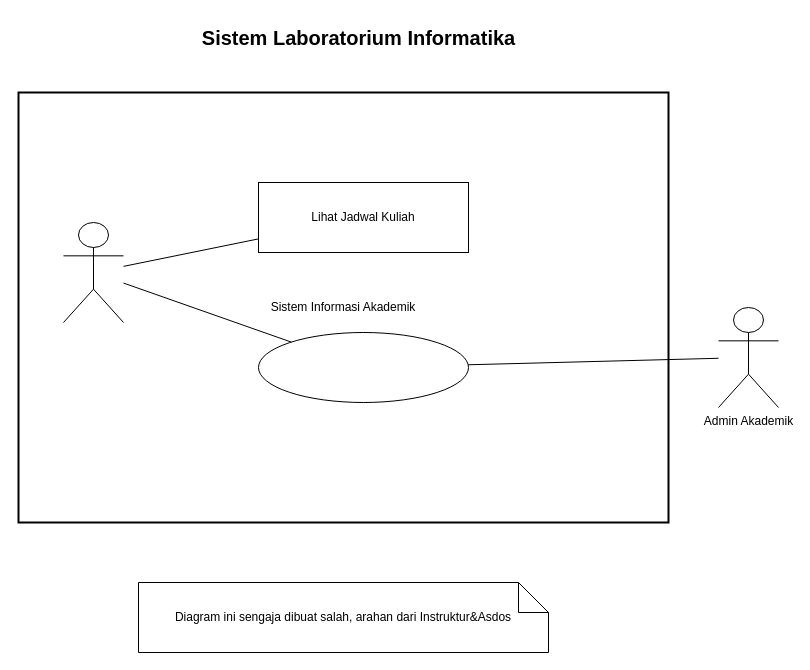
Some shapes in this 810 by 670 pixel diagram are drawn without their labels. Each missing label, with the centre of its shape:
"Kelola Jadwal Kuliah" belongs at (x=363, y=367).
"Mahasiswa" belongs at (x=93, y=272).
